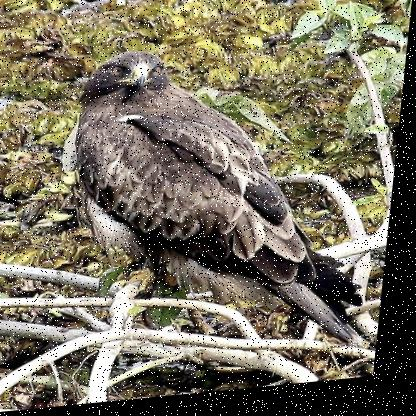Burung: (55, 33, 395, 370)
